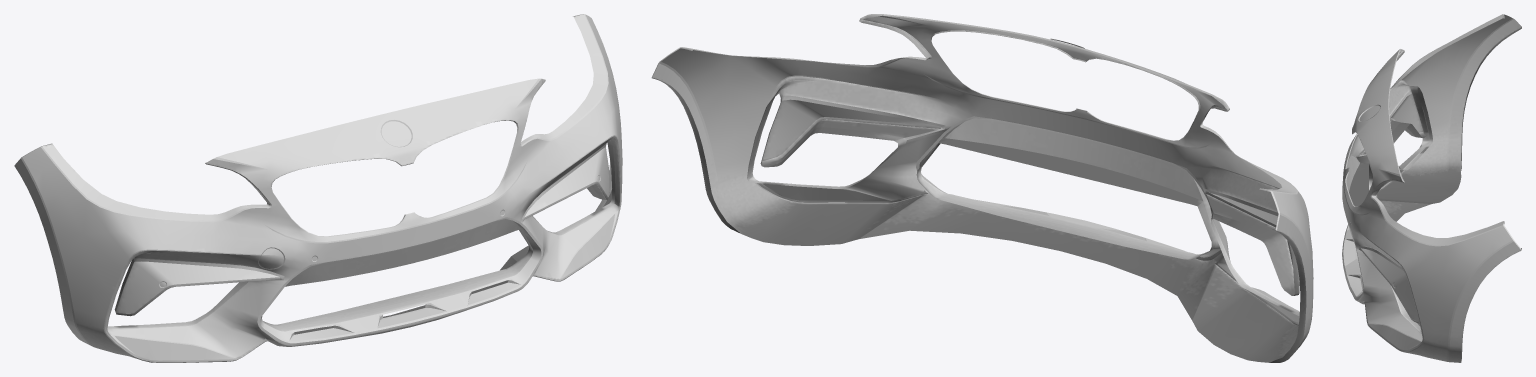
File: M2frontgrill.glb
3 renders of one model, left to right at view 1: azimuth 30°, elevation 25°; view 2: azimuth 150°, elevation 25°; view 3: azimuth 270°, elevation 25°, orthographic. The views are drawn at different scales.
Visible parts, largest first — view 1: Object_66; view 2: Object_66; view 3: Object_66.
Boxes of the visible parts, x1,y1,x2,y2 form: Object_66: (14,14,622,362); Object_66: (651,14,1313,362); Object_66: (1342,14,1521,362).
Size of the model in its own units: 1.81 by 0.6218 by 0.6156.
1 material, 1 textured.
